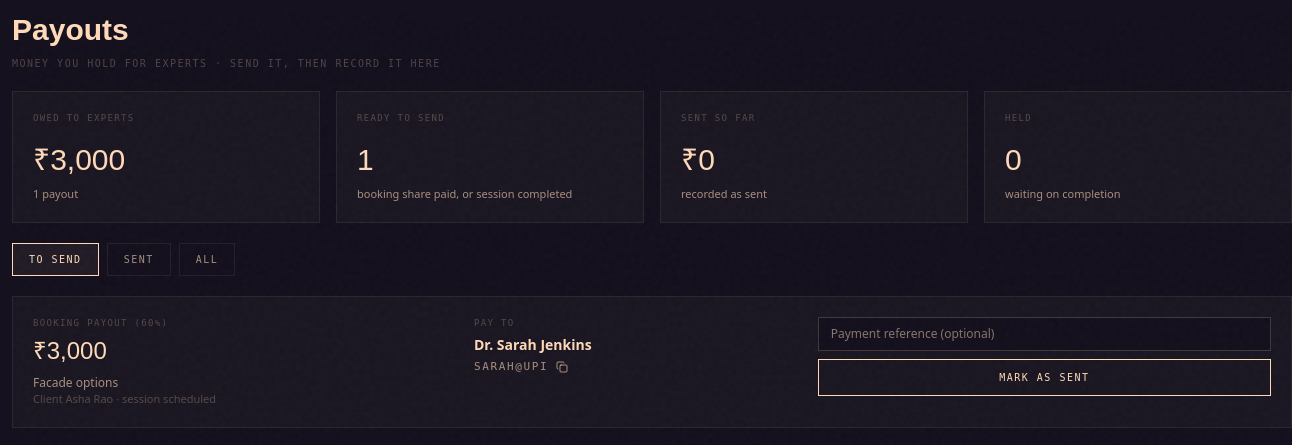
Admin / Payouts › records a sent payout with its reference, then reloads from the database
Type "UTR-9" into the field named "Payment reference for Dr. Sarah Jenkins" at (1044, 334), box [818,317,1271,351]
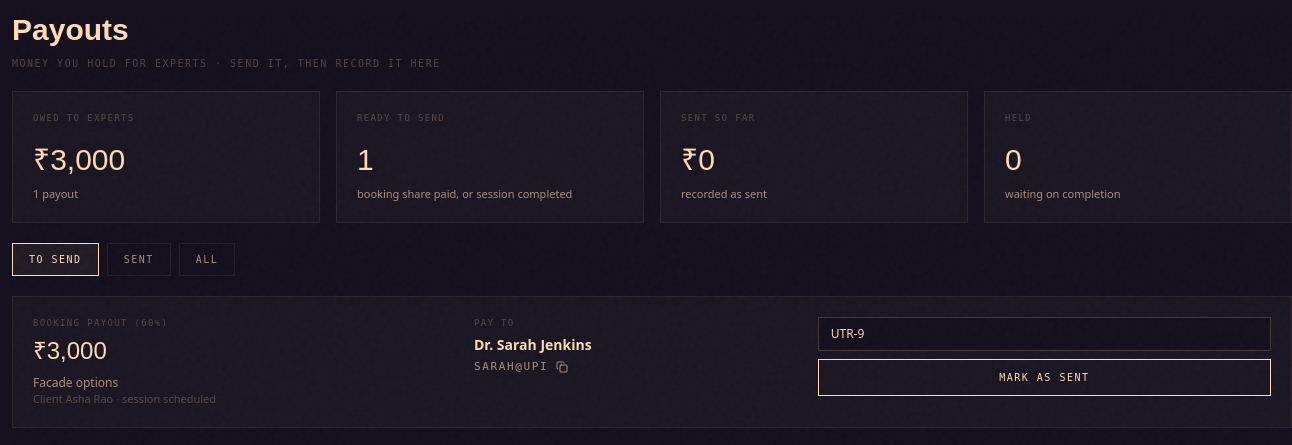
Click the button "MARK AS SENT" at (1044, 378), box [818,359,1271,396]
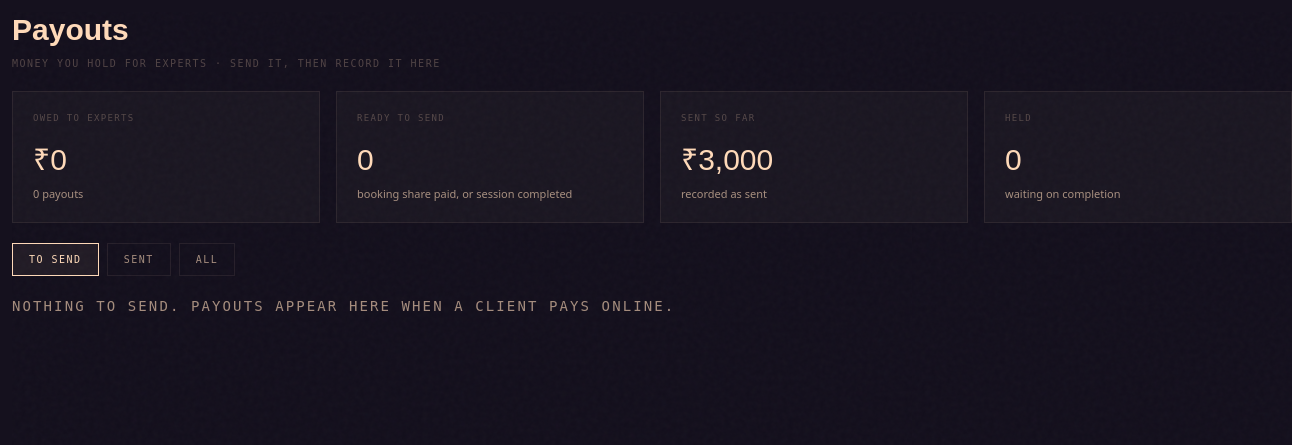
Check: the button "MARK AS SENT" is gone
